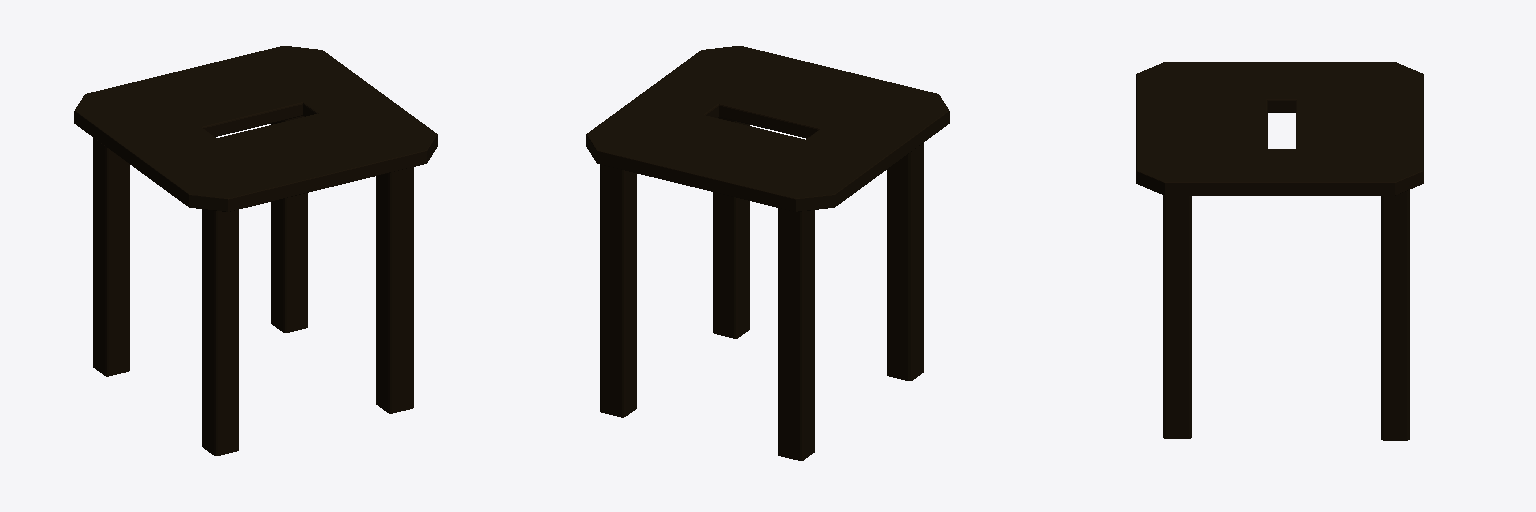
The model's file is stool.obj.
3 renders of one model, left to right at view 1: azimuth 30°, elevation 25°; view 2: azimuth 150°, elevation 25°; view 3: azimuth 270°, elevation 25°, orthographic.
Parts seen in each view (by area): view 1: pCube5; view 2: pCube5; view 3: pCube5.
Part boxes in pixels (x1,y1,x2,y2): pCube5: (74,46,437,455); pCube5: (586,46,949,460); pCube5: (1136,62,1423,440).
Bounding box in the file's own units: 59.29 × 61.04 × 59.29.